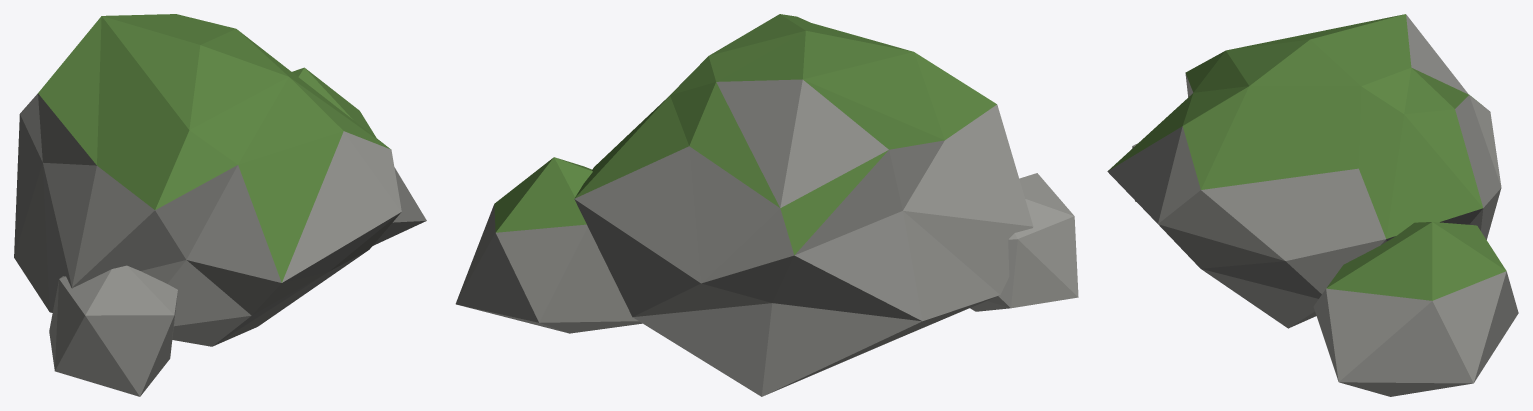
Rendered from rock.glb.
3 renders of one model, left to right at view 1: azimuth 30°, elevation 25°; view 2: azimuth 150°, elevation 25°; view 3: azimuth 270°, elevation 25°, orthographic. The views are drawn at different scales.
Parts seen in each view (by area): view 1: rock-col; view 2: rock-col; view 3: rock-col.
Boxes of the visible parts, x1,y1,x2,y2 form: rock-col: (14,14,426,396); rock-col: (455,14,1078,396); rock-col: (1107,14,1518,396).
Size of the model in its own units: 1.4 by 0.9 by 1.2.
